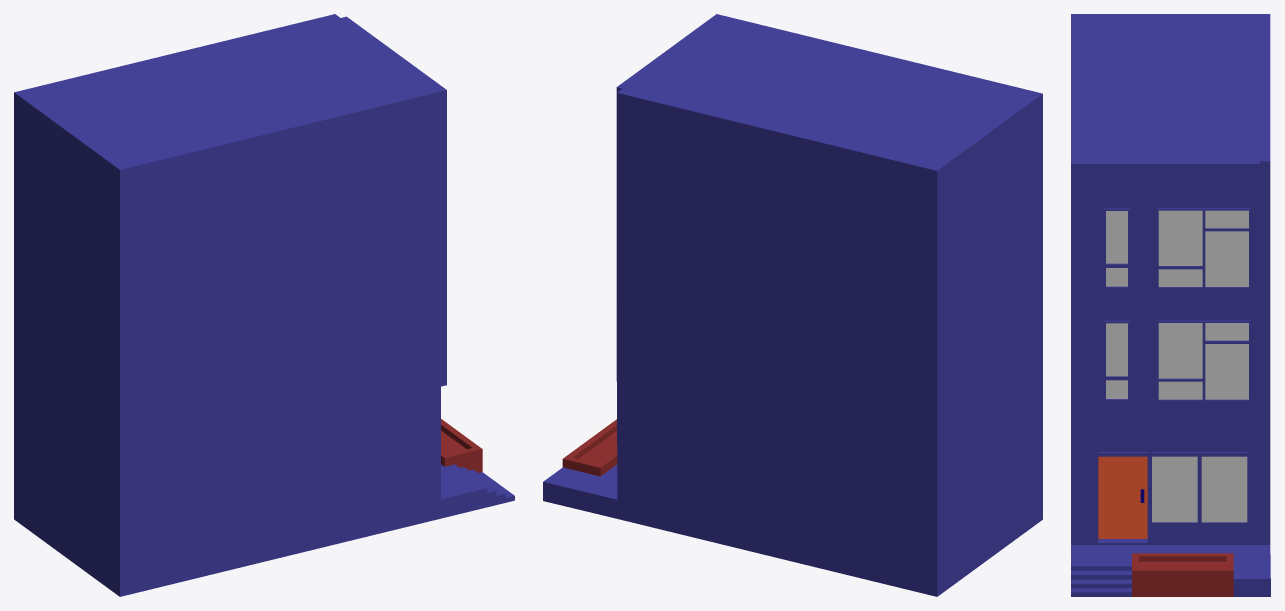
The model's file is building5.FBX.
The picture shows the model from 3 angles, left to right: view 1: azimuth 30°, elevation 25°; view 2: azimuth 150°, elevation 25°; view 3: azimuth 270°, elevation 25°; orthographic projection. The views are drawn at different scales.
Visible parts, largest first — view 1: Building_E; view 2: Building_E; view 3: Building_E.
Part boxes in pixels (x1,y1,x2,y2): Building_E: (14, 14, 514, 596); Building_E: (543, 14, 1042, 596); Building_E: (1071, 14, 1270, 596).
Size of the model in its own units: 861 by 890 by 401.
